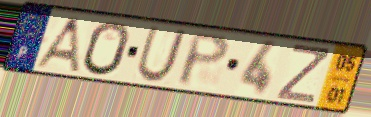4: (235, 37, 279, 99)
A: (31, 15, 83, 75)
O: (80, 20, 132, 78)
P: (175, 30, 232, 89)
U: (134, 25, 190, 85)
Z: (274, 42, 331, 105)
